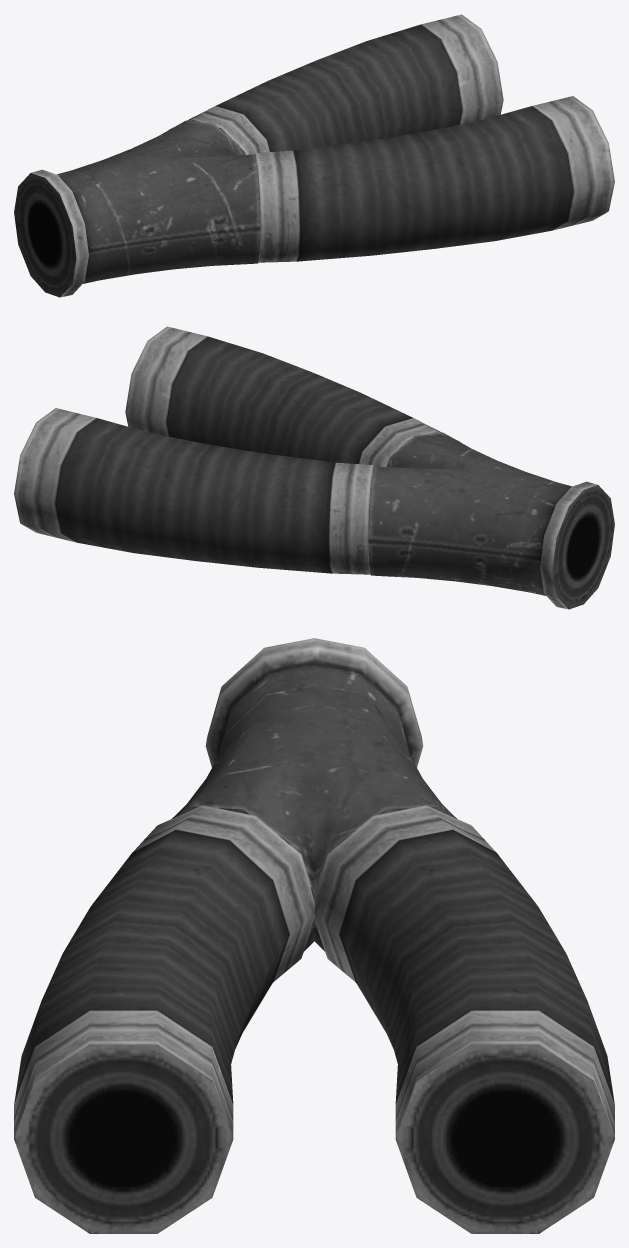
Rendered from lab_split_straight.dae.
3 renders of one model, top to bottom at view 1: azimuth 30°, elevation 25°; view 2: azimuth 150°, elevation 25°; view 3: azimuth 270°, elevation 25°, orthographic. The views are drawn at different scales.
Visible parts, largest first — view 1: split_straight; view 2: split_straight; view 3: split_straight.
Boxes of the visible parts, x1,y1,x2,y2 form: split_straight: [14, 14, 614, 297]; split_straight: [14, 326, 614, 609]; split_straight: [14, 638, 614, 1233].
Bounding box in the file's own units: 0.625 × 0.1419 × 0.3938.
